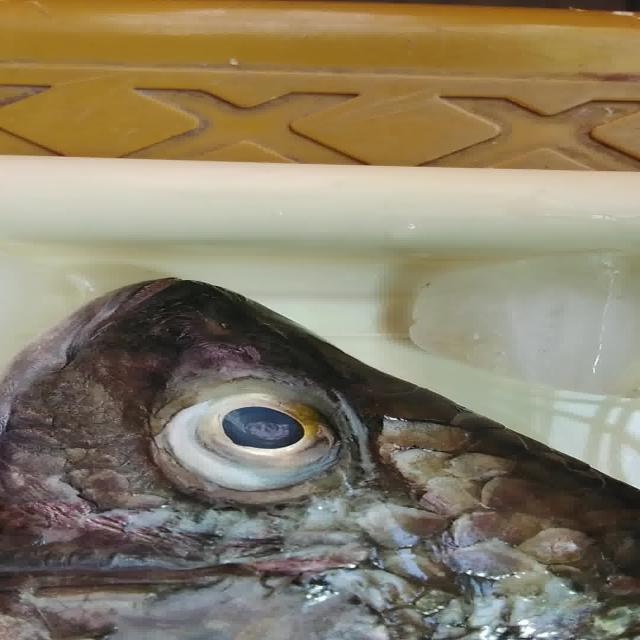Fresh: (116, 344, 415, 526)
